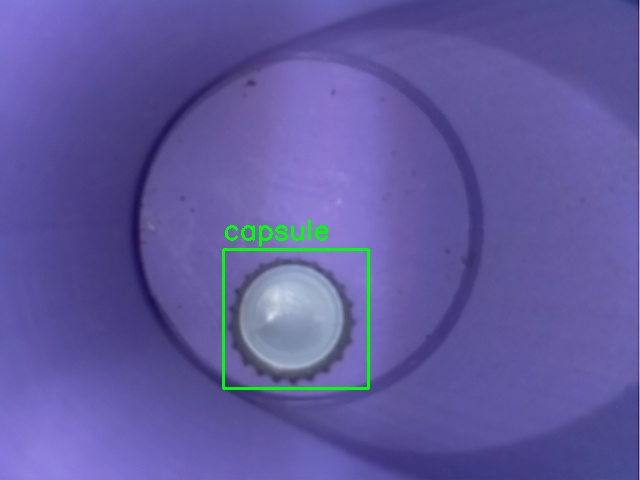capsule: (223, 249, 368, 388)
